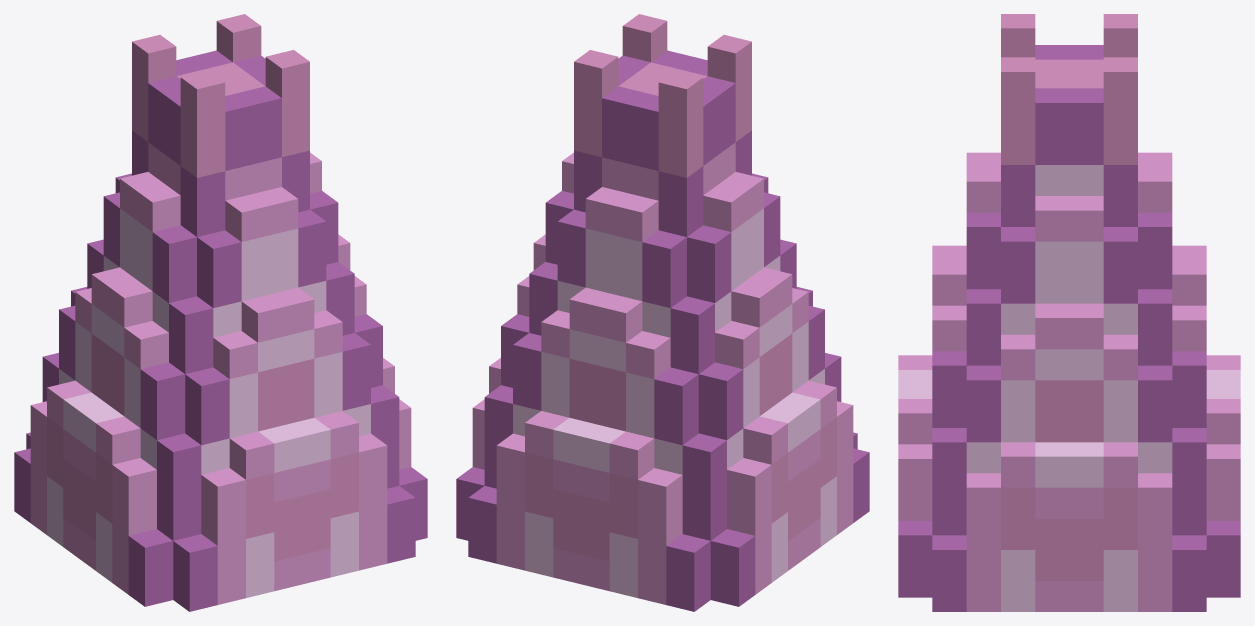
File: protect_obj.obj
3 renders of one model, left to right at view 1: azimuth 30°, elevation 25°; view 2: azimuth 150°, elevation 25°; view 3: azimuth 270°, elevation 25°, orthographic. The views are drawn at different scales.
Size of the model in its own units: 1 by 1.6 by 1.
1 material, 1 textured.
